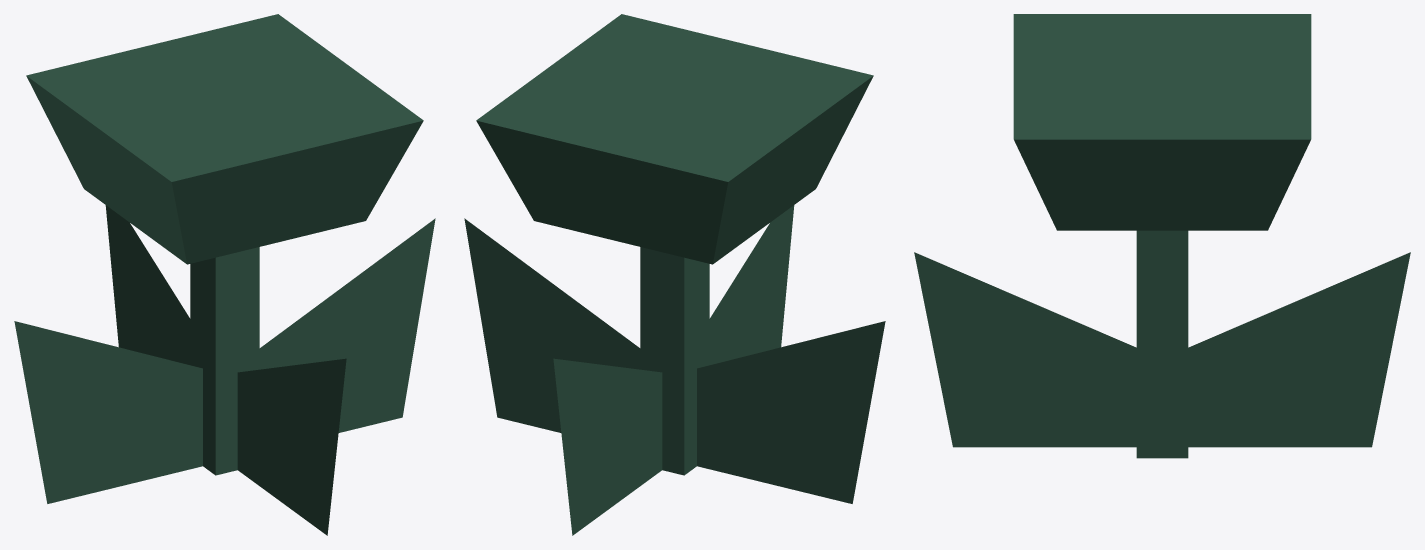
Rendered from Flower_Yellow_02.obj.
The picture shows the model from 3 angles, left to right: view 1: azimuth 30°, elevation 25°; view 2: azimuth 150°, elevation 25°; view 3: azimuth 270°, elevation 25°; orthographic projection. The views are drawn at different scales.
Visible parts, largest first — view 1: Mesh3_Flower_Yellow_Model.001, Mesh4_Flower_Yellow_Model.001, Mesh1_Flower_Yellow_Model.001, Mesh2_Flower_Yellow_Model.001, Mesh5_Flower_Yellow_Model.001; view 2: Mesh3_Flower_Yellow_Model.001, Mesh4_Flower_Yellow_Model.001, Mesh1_Flower_Yellow_Model.001, Mesh5_Flower_Yellow_Model.001, Mesh2_Flower_Yellow_Model.001; view 3: Mesh3_Flower_Yellow_Model.001, Mesh5_Flower_Yellow_Model.001, Mesh2_Flower_Yellow_Model.001.
Part boxes in pixels (left/top/right/bottom): Mesh3_Flower_Yellow_Model.001: left=26, top=14, right=423, bottom=475; Mesh4_Flower_Yellow_Model.001: left=14, top=321, right=202, bottom=503; Mesh1_Flower_Yellow_Model.001: left=259, top=218, right=435, bottom=432; Mesh2_Flower_Yellow_Model.001: left=237, top=358, right=346, bottom=535; Mesh5_Flower_Yellow_Model.001: left=105, top=205, right=190, bottom=364; Mesh3_Flower_Yellow_Model.001: left=476, top=14, right=873, bottom=475; Mesh4_Flower_Yellow_Model.001: left=697, top=321, right=885, bottom=503; Mesh1_Flower_Yellow_Model.001: left=464, top=218, right=640, bottom=432; Mesh5_Flower_Yellow_Model.001: left=553, top=358, right=662, bottom=535; Mesh2_Flower_Yellow_Model.001: left=709, top=205, right=794, bottom=364; Mesh3_Flower_Yellow_Model.001: left=1013, top=14, right=1311, bottom=458; Mesh5_Flower_Yellow_Model.001: left=1188, top=252, right=1410, bottom=447; Mesh2_Flower_Yellow_Model.001: left=914, top=252, right=1136, bottom=447.
Size of the model in its own units: 0.4859 by 0.4 by 0.4859.
